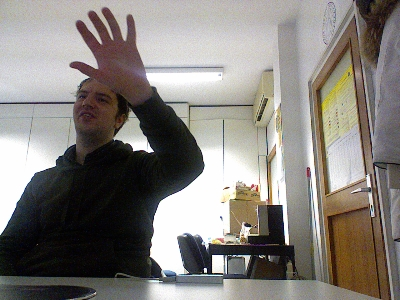布: (67, 7, 148, 93)
